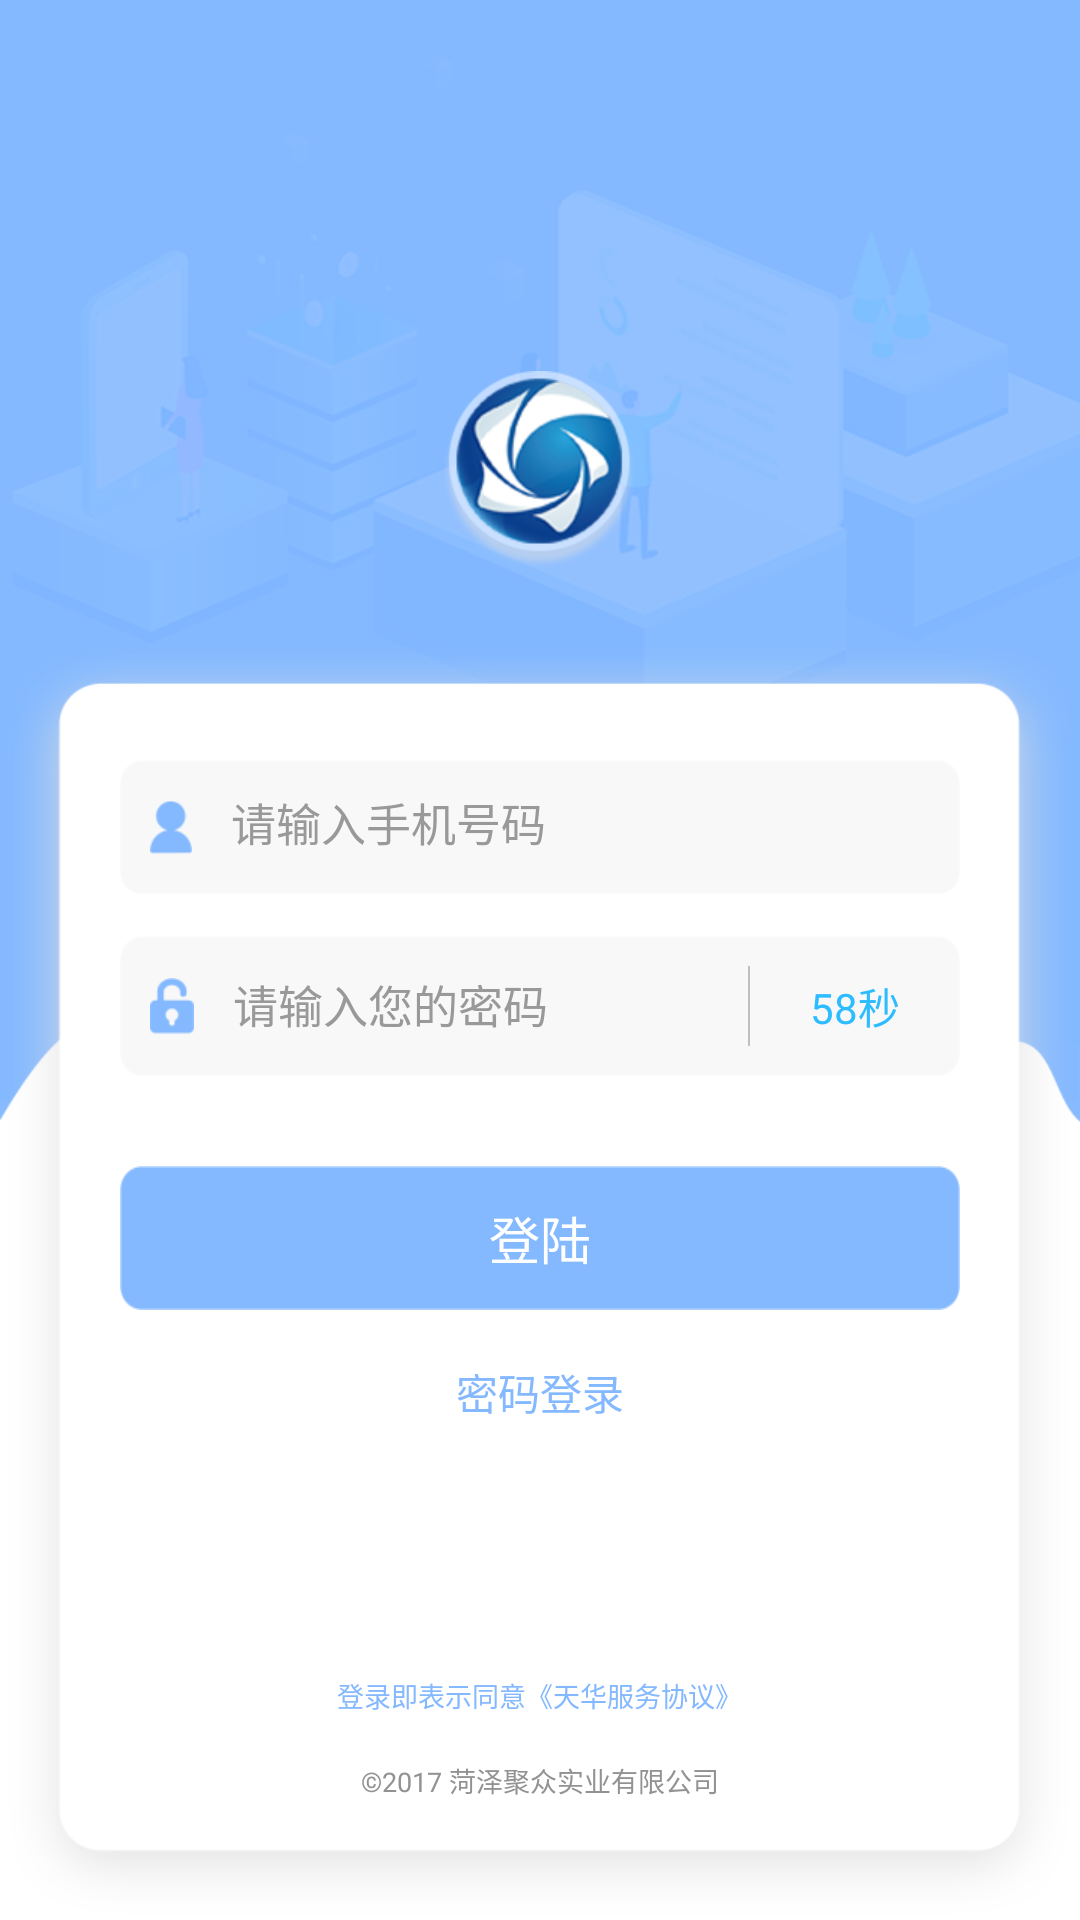

Where icons sit on this 1080px×1920px app screen, as {"left": x1, "top": y1, "right": x2, "bottom": y2}:
user: {"left": 150, "top": 801, "right": 192, "bottom": 854}
